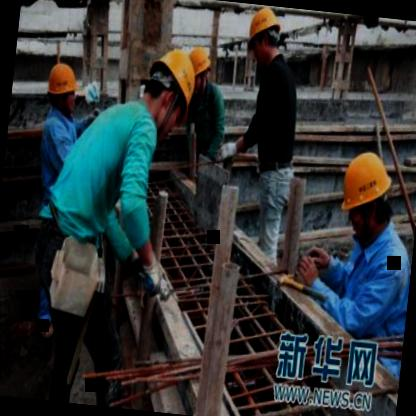helmet: (332, 142, 395, 244), (140, 42, 206, 133), (240, 3, 286, 72), (179, 38, 216, 102), (42, 57, 82, 115)
